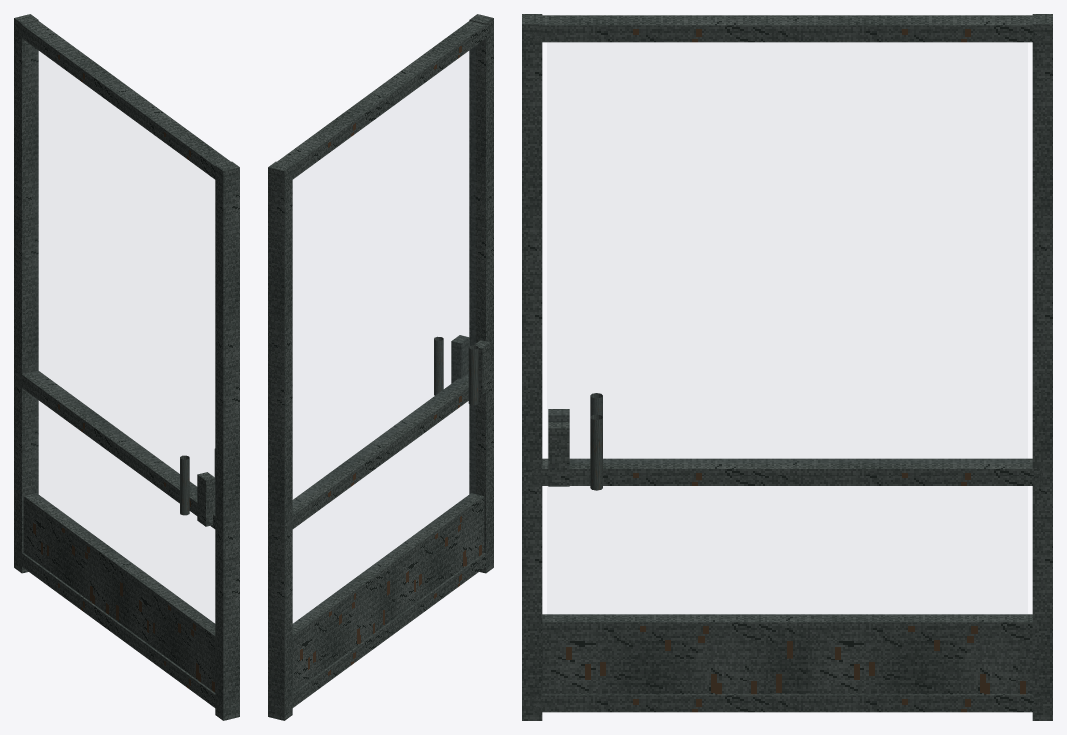
File: EntranceDoor.glb
3 renders of one model, left to right at view 1: azimuth 30°, elevation 25°; view 2: azimuth 150°, elevation 25°; view 3: azimuth 270°, elevation 25°, orthographic. The views are drawn at different scales.
Visible parts, largest first — view 1: Tarnished steel; view 2: Tarnished steel; view 3: Tarnished steel.
Boxes of the visible parts, bbox=[...] form: Tarnished steel: bbox=[14, 14, 239, 720]; Tarnished steel: bbox=[268, 14, 493, 720]; Tarnished steel: bbox=[522, 14, 1052, 720].
Size of the model in its own units: 0.238 by 2.86 by 1.98.
2 materials, 1 textured.
